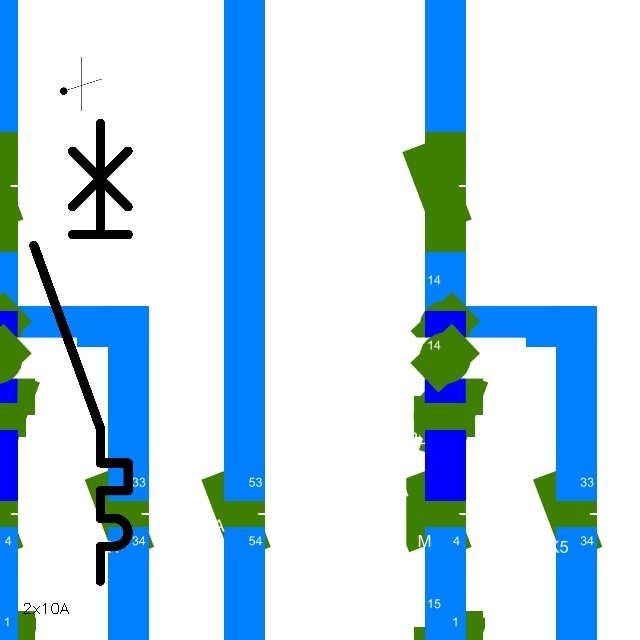interruptor_termomagnetico: (22, 111, 140, 593)
